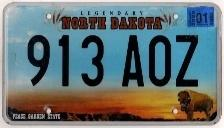0: (147, 32, 172, 87)
1: (56, 33, 77, 89)
3: (79, 32, 107, 88)
9: (24, 33, 54, 87)
A: (118, 33, 146, 89)
Z: (173, 32, 202, 89)
